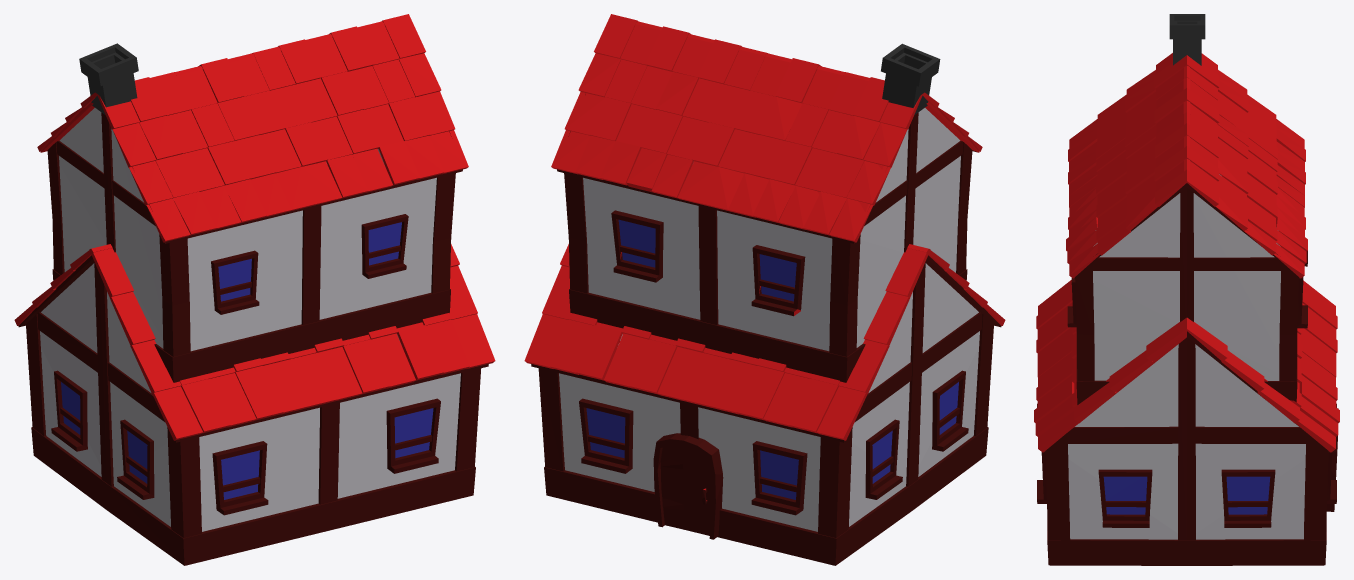
Rendered from City3.obj.
The picture shows the model from 3 angles, left to right: view 1: azimuth 30°, elevation 25°; view 2: azimuth 150°, elevation 25°; view 3: azimuth 270°, elevation 25°; orthographic projection. The views are drawn at different scales.
Visible parts, largest first — view 1: Cube.009_Cube.019; view 2: Cube.009_Cube.019; view 3: Cube.009_Cube.019.
Part boxes in pixels (<box>): Cube.009_Cube.019: <box>14,14,495,565</box>; Cube.009_Cube.019: <box>524,14,1005,565</box>; Cube.009_Cube.019: <box>1034,14,1339,565</box>.
Size of what is drawn, in the model's own units: 37.67 by 49.78 by 32.98.
